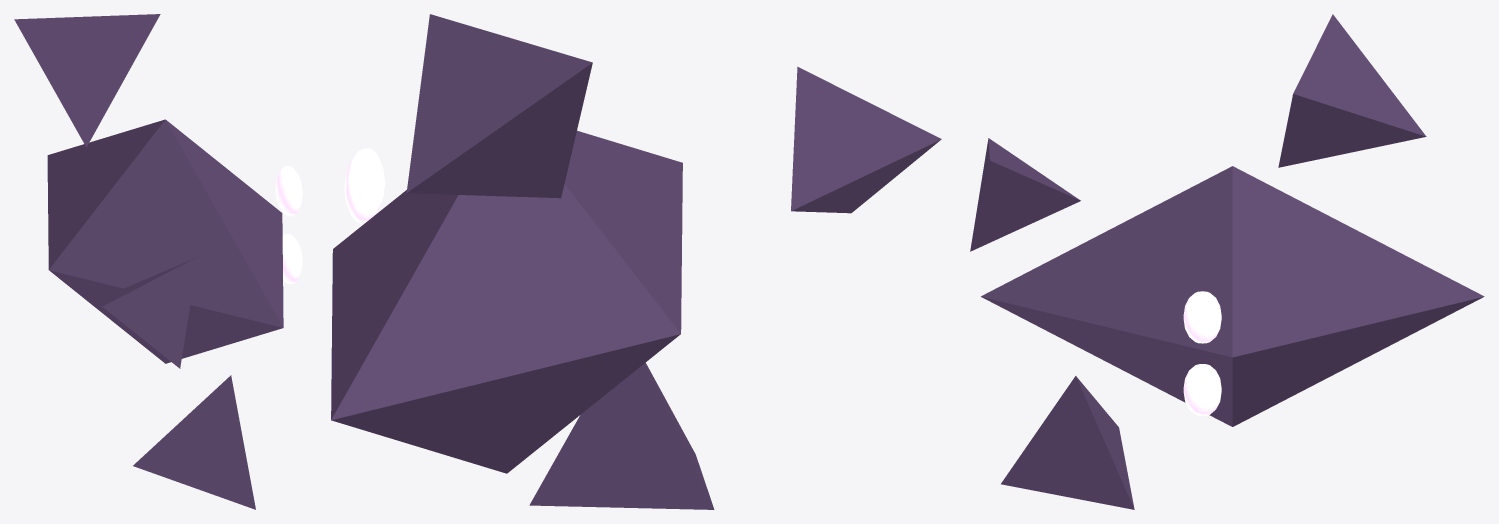
The model's file is trauma-zwatpienie.glb.
3 renders of one model, left to right at view 1: azimuth 30°, elevation 25°; view 2: azimuth 150°, elevation 25°; view 3: azimuth 270°, elevation 25°, orthographic. The views are drawn at different scales.
Visible parts, largest first — view 1: Shadow, Glow; view 2: Shadow, Glow; view 3: Shadow, Glow.
Boxes of the visible parts, x1,y1,x2,y2 form: Shadow: [14, 14, 283, 509]; Glow: [275, 166, 302, 284]; Shadow: [331, 14, 941, 509]; Glow: [344, 148, 384, 223]; Shadow: [970, 14, 1484, 509]; Glow: [1183, 291, 1221, 415].
Size of the model in its own units: 0.7327 by 0.9379 by 1.03.
